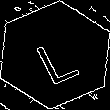L_NW: (28, 25, 82, 85)
